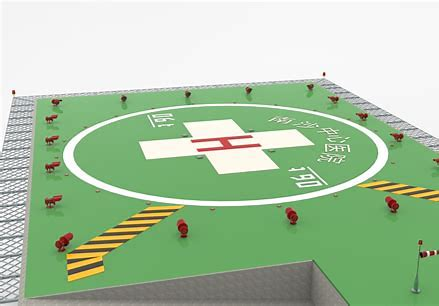H: (190, 134, 261, 152)
